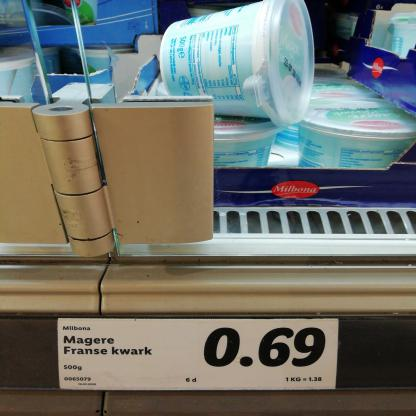prtg: (60, 319, 340, 390)
